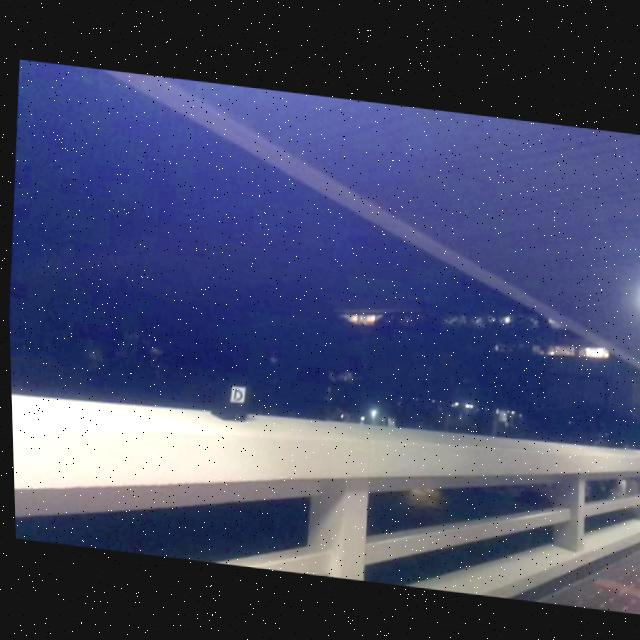D: (230, 385, 240, 399)
